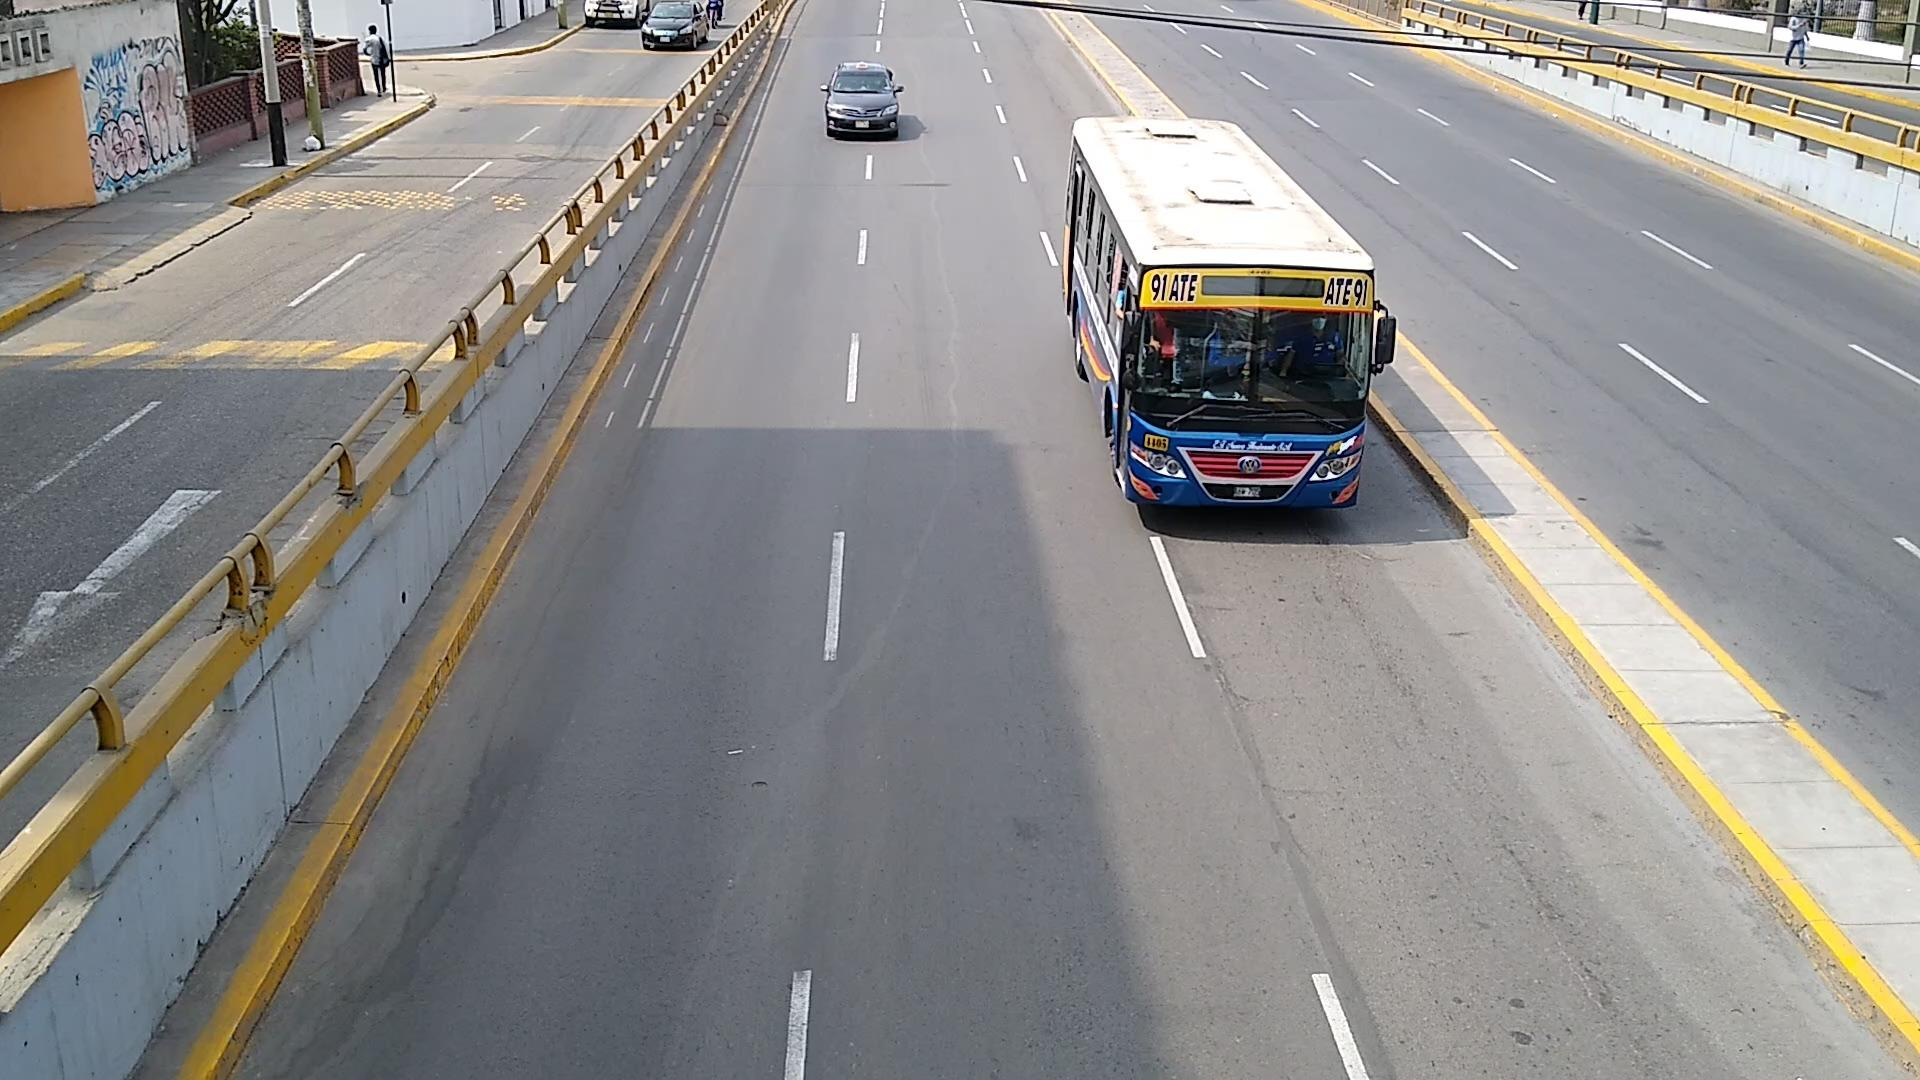bus: (1062, 116, 1395, 506)
car: (822, 63, 903, 138)
